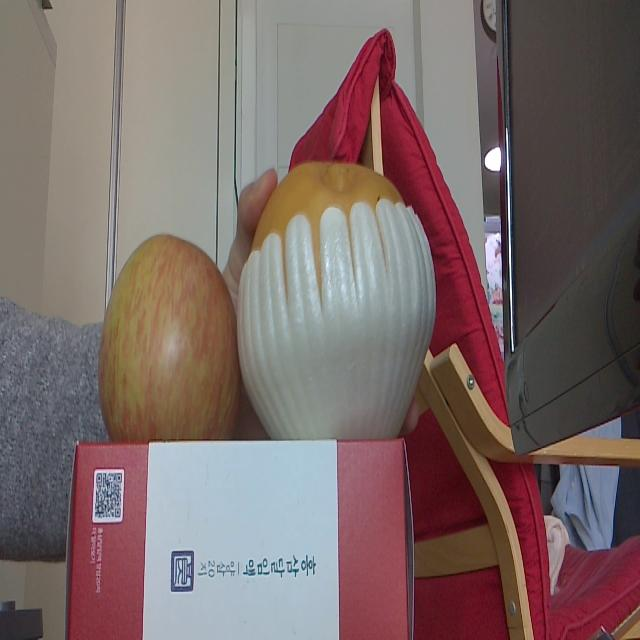apple: (98, 232, 238, 443)
pear: (238, 163, 436, 438)
